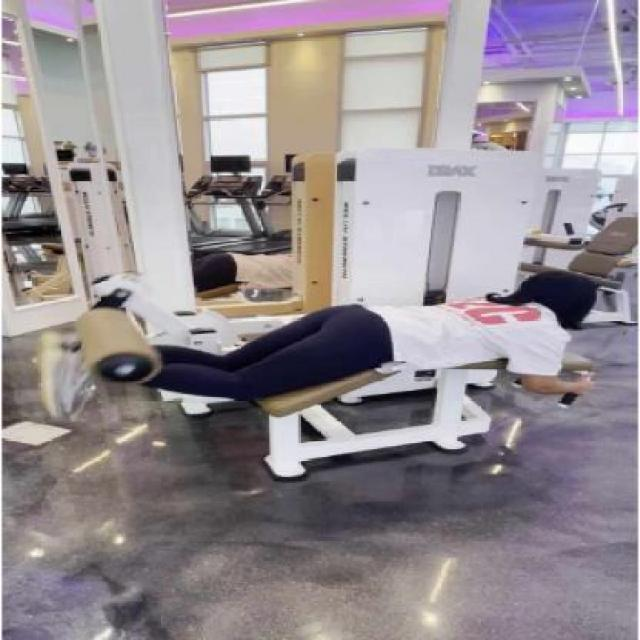reg curl machine: (31, 145, 622, 492)
